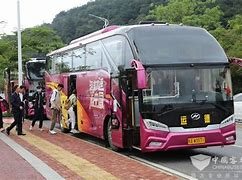bigcar: (41, 21, 238, 154)
